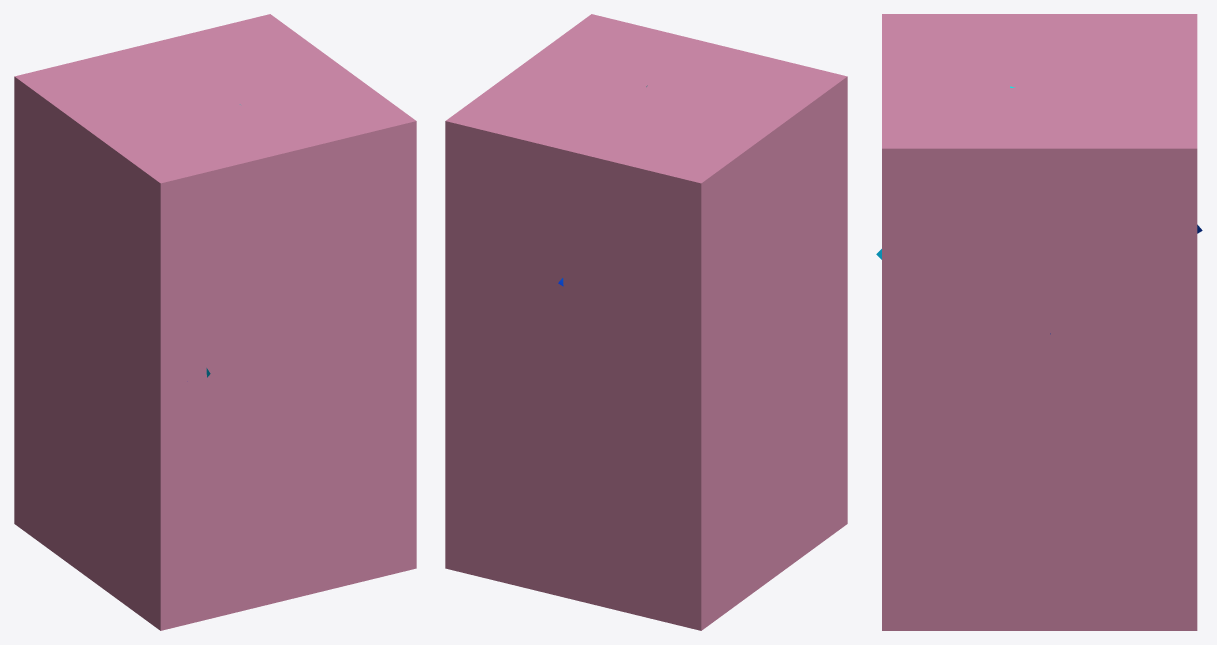
The model's file is tree_beech_small_c.dae.
The picture shows the model from 3 angles, left to right: view 1: azimuth 30°, elevation 25°; view 2: azimuth 150°, elevation 25°; view 3: azimuth 270°, elevation 25°; orthographic projection. The views are drawn at different scales.
Visible parts, largest first — view 1: Untitled; view 2: Untitled; view 3: Untitled.
Part boxes in pixels (x1,y1,x2,y2): Untitled: [14, 14, 416, 630]; Untitled: [445, 14, 847, 630]; Untitled: [882, 14, 1197, 630].
Size of the model in its own units: 5.59 by 5.66 by 9.25.
